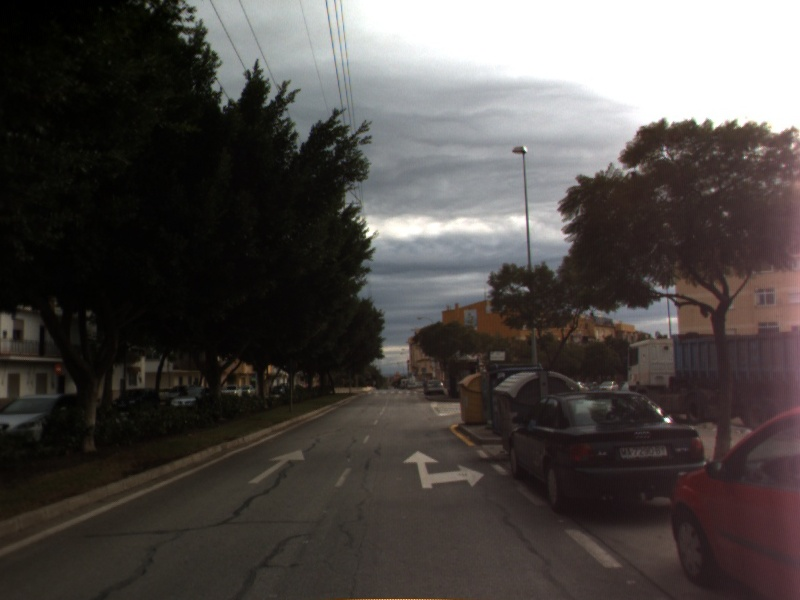STRAIGHT: (246, 447, 307, 485)
STRAIGHT_RIGHT: (401, 448, 487, 490)
